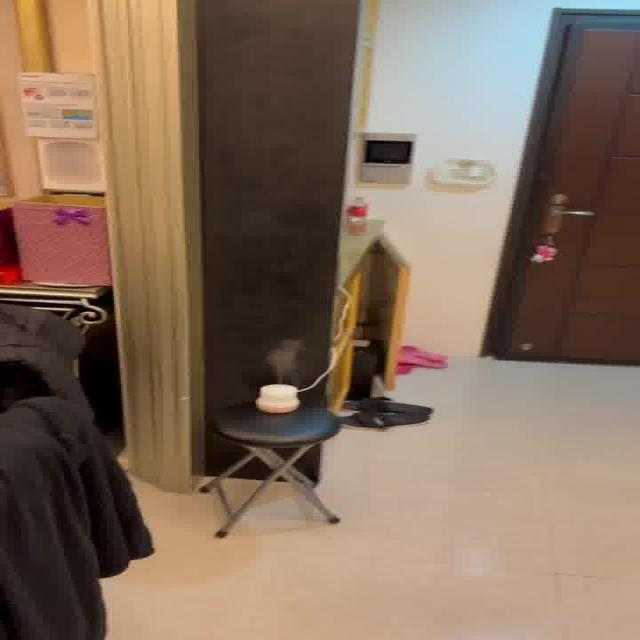fire: (263, 338, 309, 379)
